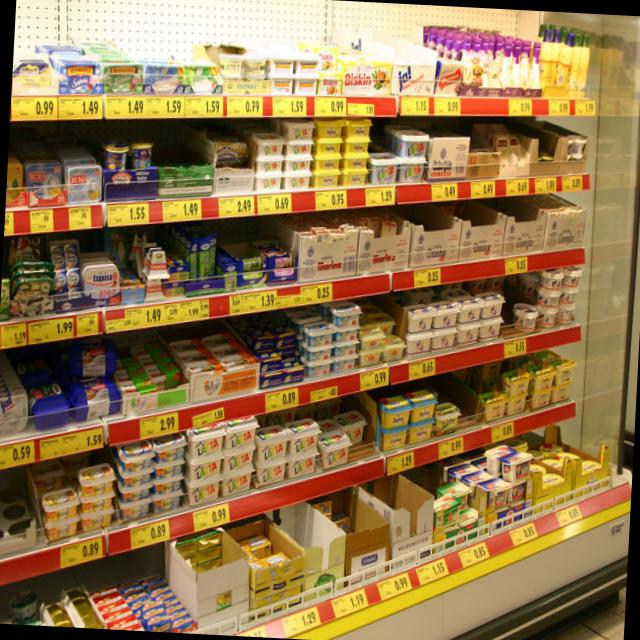box contants: (162, 526, 248, 627), (264, 499, 345, 602), (223, 516, 303, 619), (307, 486, 389, 586), (351, 473, 433, 568), (272, 211, 358, 282), (384, 204, 460, 268), (339, 206, 409, 274), (430, 199, 504, 260), (475, 194, 543, 253), (520, 191, 585, 249)
floor -X: (545, 584, 625, 640)
margarine: (403, 288, 502, 353), (181, 420, 220, 505), (111, 438, 149, 521), (220, 415, 256, 492), (150, 435, 184, 513), (278, 117, 311, 188), (252, 424, 289, 483), (246, 131, 283, 188), (339, 118, 370, 185), (329, 299, 358, 368), (42, 486, 78, 538), (300, 321, 332, 376), (319, 429, 351, 469)
wall clock: (622, 194, 640, 470)
